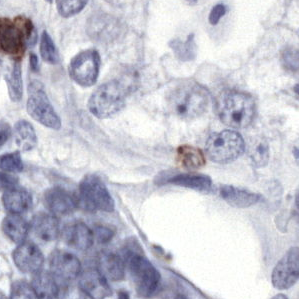Lymphocyte: (2, 27, 26, 56)
